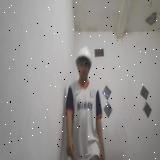Helmet: (76, 42, 93, 70)
